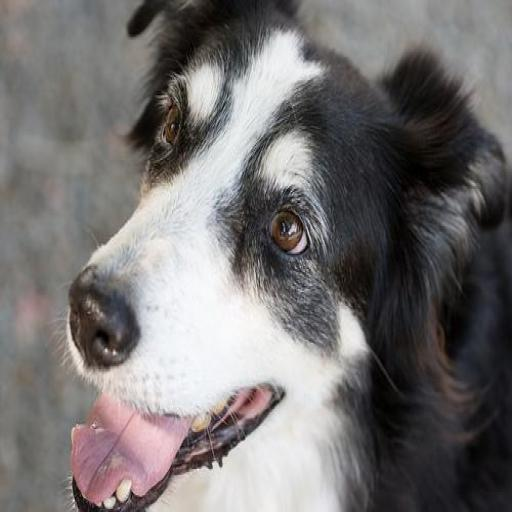dog_face: (58, 8, 502, 500)
